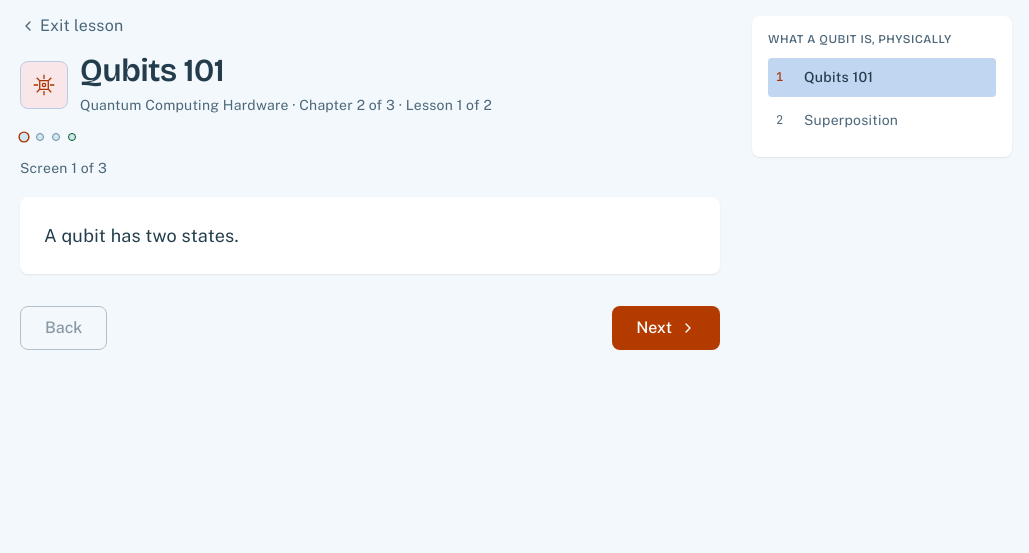
Test case: going Back to an already-answered question screen preserves its graded state (no remount)
This screenshot has width=1029, height=553.
Expected: the text "A qubit has two states." is shown, [44,225,239,246]
What coordinates should you click on to do the following:
click the button "Next"
I would click on:
 (666, 328)
Its box is [612,306,720,350].
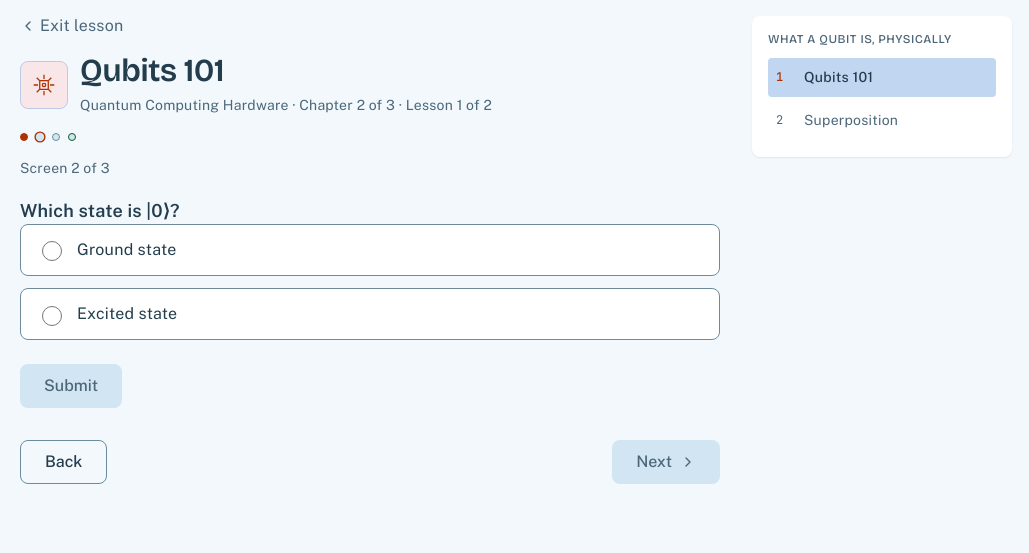
What coordinates should you click on to do the following:
click the radio button labelled "Ground state"
I would click on:
 (52, 251)
Its box is [42,241,62,261].
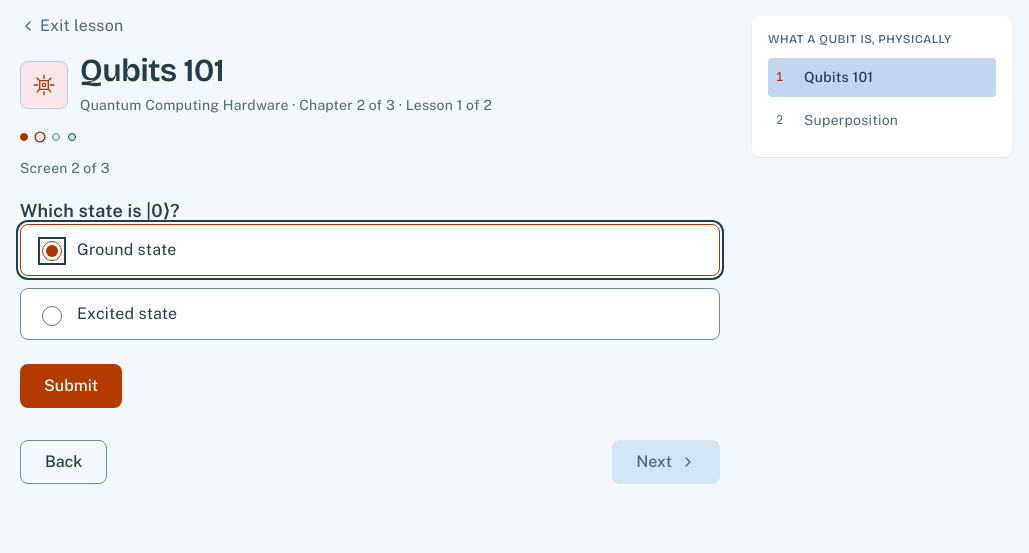
What coordinates should you click on to do the following:
click the button "Submit"
I would click on:
 (71, 386)
Its box is [20,364,122,408].
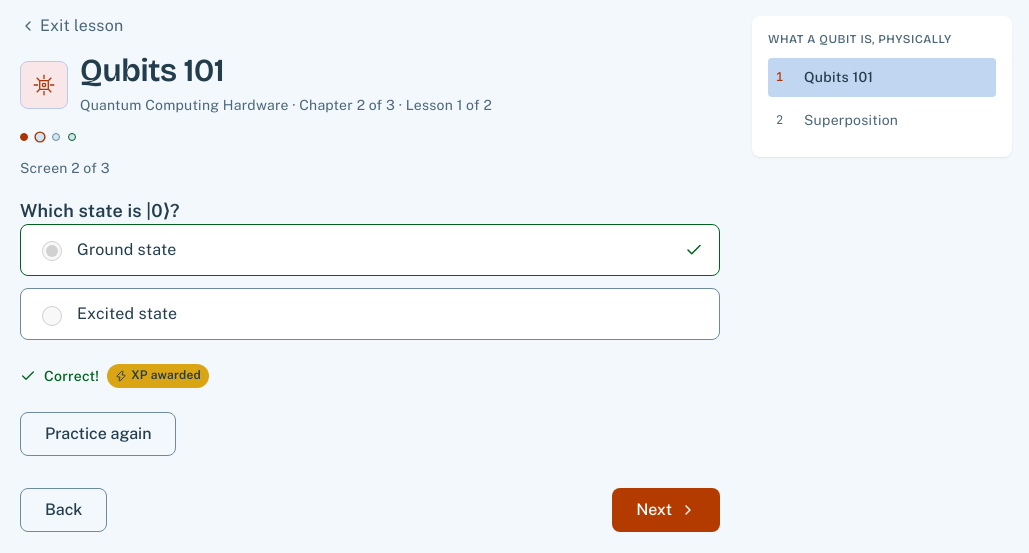
Now the text "Correct!" is shown, box [44,365,99,388]
What coordinates should you click on to do the following:
click the button "Next"
I would click on:
 (666, 510)
Its box is [612,488,720,532].
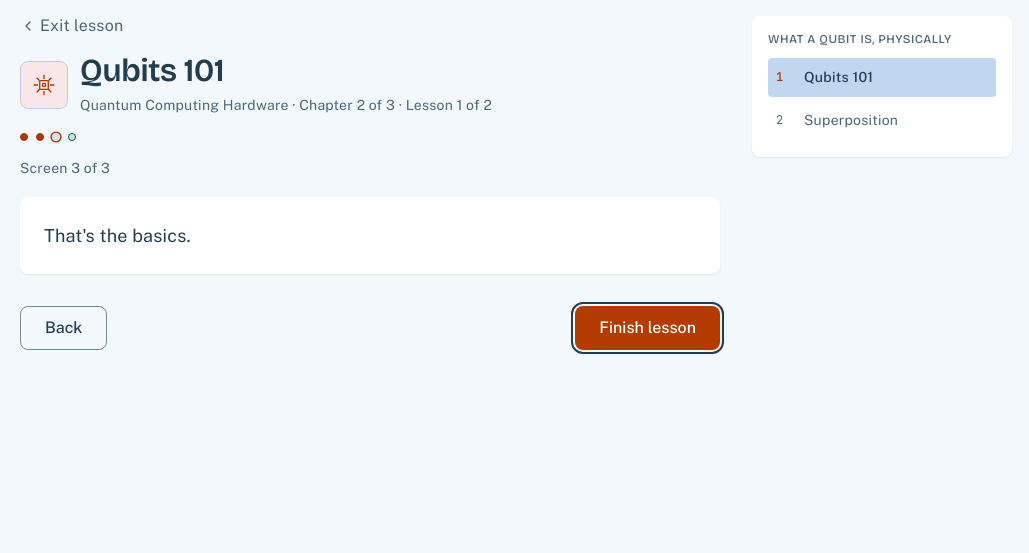
Now the text "That's the basics." is shown, box [44,225,191,246]
What coordinates should you click on to do the following:
click the button "Back"
I would click on:
 (64, 328)
Its box is [20,306,107,350].
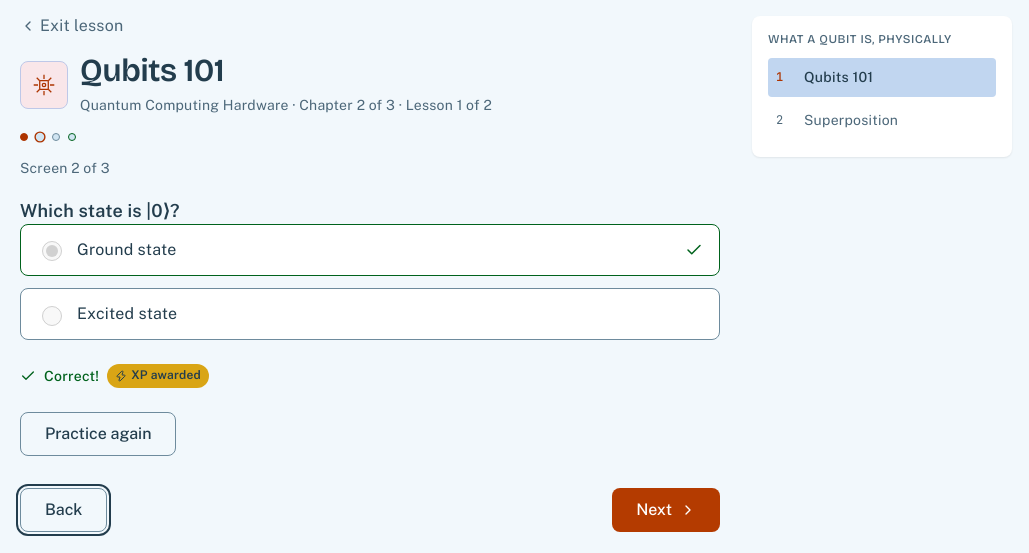
Now the button "Next" is enabled, box [612,488,720,532]
Now the text "Correct!" is shown, box [44,365,99,388]
